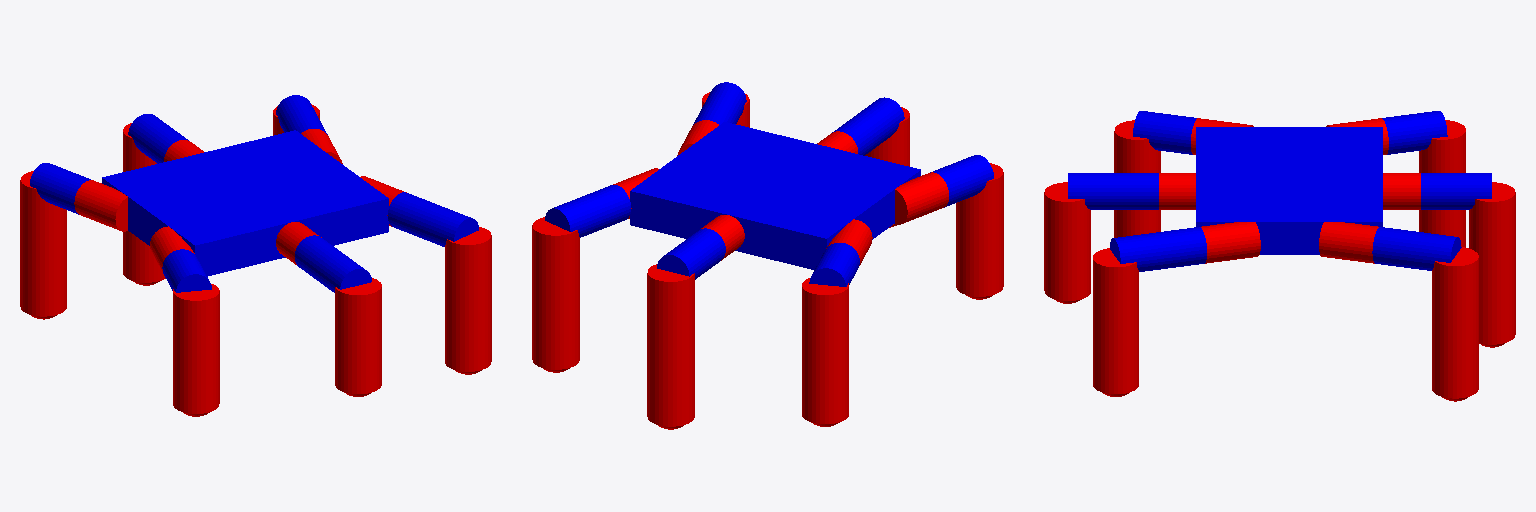
--- Facts derived from the render (not from the file) ---
Views: 3 orthographic renders of the robot side by side, from view 1: azimuth 30°, elevation 25°; view 2: azimuth 150°, elevation 25°; view 3: azimuth 270°, elevation 25°.
Robot: pexod — 19 links, 18 joints (18 revolute); root link base_link; default pose: every joint at zero.
Visible links, largest first — view 1: base_link, leg_3_3, leg_5_3, leg_0_3, leg_4_3, leg_3_2, leg_4_2, leg_1_3, leg_0_1, leg_0_2, leg_1_2, leg_5_2 (+3 smaller); view 2: base_link, leg_1_3, leg_2_3, leg_0_3, leg_5_3, leg_2_2, leg_4_2, leg_1_2, leg_5_1, leg_5_2, leg_0_2, leg_3_2 (+5 smaller); view 3: base_link, leg_2_3, leg_3_3, leg_1_3, leg_4_3, leg_3_2, leg_4_2, leg_0_3, leg_5_3, leg_2_2, leg_1_2, leg_0_2 (+5 smaller).
Link boxes in pixels (left/top/right/bottom): base_link: left=102, top=130, right=388, bottom=276; leg_3_3: left=445, top=227, right=491, bottom=374; leg_5_3: left=173, top=284, right=219, bottom=416; leg_0_3: left=20, top=171, right=66, bottom=319; leg_4_3: left=335, top=278, right=381, bottom=396; leg_3_2: left=388, top=192, right=478, bottom=246; leg_4_2: left=295, top=235, right=371, bottom=292; leg_1_3: left=123, top=123, right=165, bottom=285; leg_0_1: left=74, top=180, right=127, bottom=231; leg_0_2: left=30, top=163, right=90, bottom=214; leg_1_2: left=128, top=114, right=188, bottom=163; leg_5_2: left=162, top=249, right=211, bottom=292; base_link: left=630, top=122, right=920, bottom=269; leg_1_3: left=647, top=264, right=694, bottom=429; leg_2_3: left=532, top=217, right=579, bottom=372; leg_0_3: left=802, top=278, right=848, bottom=426; leg_5_3: left=956, top=163, right=1003, bottom=299; leg_2_2: left=545, top=185, right=630, bottom=237; leg_4_2: left=832, top=97, right=904, bottom=155; leg_1_2: left=657, top=228, right=725, bottom=279; leg_5_1: left=895, top=172, right=948, bottom=224; leg_5_2: left=930, top=155, right=993, bottom=207; leg_0_2: left=809, top=243, right=859, bottom=286; leg_3_2: left=693, top=82, right=746, bottom=124; base_link: left=1196, top=127, right=1382, bottom=254; leg_2_3: left=1432, top=247, right=1478, bottom=401; leg_3_3: left=1093, top=248, right=1138, bottom=396; leg_1_3: left=1469, top=182, right=1515, bottom=347; leg_4_3: left=1044, top=182, right=1090, bottom=303; leg_3_2: left=1110, top=227, right=1206, bottom=271; leg_4_2: left=1068, top=173, right=1158, bottom=209; leg_0_3: left=1419, top=120, right=1465, bottom=247; leg_5_3: left=1114, top=120, right=1160, bottom=237; leg_2_2: left=1372, top=227, right=1461, bottom=270; leg_1_2: left=1421, top=173, right=1491, bottom=209; leg_0_2: left=1382, top=111, right=1447, bottom=154.
Bounding box of the posed robot: 0.3733 × 0.5045 × 0.2012 m (x, y, z).
Geometry: primitives only (box / cylinder / sphere), no mesh files.

URDF robot description (pexod):
<?xml version="1.0" ?>
<!-- =================================================================================== -->
<!-- |    This document was autogenerated by xacro from pexod.xacro                    | -->
<!-- |    EDITING THIS FILE BY HAND IS NOT RECOMMENDED                                 | -->
<!-- =================================================================================== -->
<robot name="pexod" xmlns:xacro="http://www.ros.org/wiki/xacro">
  <!-- <xacro:include filename="$(find pexod_description)/urdf/pexod_control.xacro" /> -->
  <!-- MATERIALS -->
  <material name="Blue">
    <color rgba="0 0 1 1"/>
  </material>
  <material name="Red">
    <color rgba="1 0 0 1"/>
  </material>
  <material name="Green">
    <color rgba="0 1 0 1"/>
  </material>
  <material name="Yellow">
    <color rgba="1 1 0 1"/>
  </material>
  <material name="LightGrey">
    <color rgba="0.6 0.6 0.6 1.0"/>
  </material>
  <!-- END OF MATERIALS -->
  <!-- XACRO MACROS FOR VISUALS AND COLLISIONS -->
  <!-- END OF XACRO MACROS -->
  <!-- TORSO -->
  <link name="base_link">
    <visual>
      <origin rpy="0 0 0" xyz="0 0 0"/>
      <geometry>
        <box size="0.24 0.2 0.04"/>
      </geometry>
      <material name="Blue"/>
    </visual>
    <collision>
      <origin rpy="0 0 0" xyz="0 0 0"/>
      <geometry>
        <box size="0.24 0.2 0.04"/>
      </geometry>
    </collision>
    <inertial>
      <!-- CENTER OF MASS -->
      <origin rpy="0 0 0" xyz="0 0 0"/>
      <mass value="1.031"/>
      <!-- box inertia: 1/12*m(y^2+z^2), ... -->
      <inertia ixx="0.00357413333333" ixy="0" ixz="0" iyy="0.00508626666667" iyz="0" izz="0.00838546666667"/>
    </inertial>
  </link>
  <!-- XACRO MACRO FOR LEGS LINKS/JOINTS -->
  <!-- END OF LEG LINKS/JOINTS -->
  <joint name="body_leg_2" type="revolute">
    <parent link="base_link"/>
    <child link="leg_2_1"/>
    <limit effort="30.0" lower="-1.57079632679" upper="1.57079632679" velocity="7.0"/>
    <origin rpy="0 0 -0.3" xyz="0.11 0.04 0"/>
    <!-- <xacro:if value="${index == 5 or index == 4 or index == 3}">
                <axis xyz="0 0 1"/>
            </xacro:if>
            <xacro:if value="${index == 2 or index == 1 or index == 0}"> -->
    <axis xyz="0 0 1"/>
    <!-- </xacro:if> -->
    <dynamics damping="0.0"/>
  </joint>
  <link name="leg_2_1">
    <visual>
      <origin rpy="1.57079632679 0 0" xyz="0.01 0.03 0"/>
      <geometry>
        <cylinder length="0.06" radius="0.02"/>
      </geometry>
      <material name="Red"/>
    </visual>
    <collision>
      <origin rpy="1.57079632679 0 0" xyz="0.01 0.03 0"/>
      <geometry>
        <box size="0.02 0.02 0.06"/>
      </geometry>
    </collision>
    <inertial>
      <!-- CENTER OF MASS -->
      <origin rpy="1.57079632679 0 0" xyz="0.01 0.03 0"/>
      <mass value="0.02"/>
      <!-- box inertia: 1/12*m(y^2+z^2), ... -->
      <inertia ixx="6.66666666667e-06" ixy="0" ixz="0" iyy="6.66666666667e-06" iyz="0" izz="1.33333333333e-06"/>
    </inertial>
  </link>
  <joint name="leg_2_1_2" type="revolute">
    <parent link="leg_2_1"/>
    <child link="leg_2_2"/>
    <limit effort="30.0" lower="-0.78539816339" upper="0.78539816339" velocity="7.0"/>
    <origin rpy="0 0 0" xyz="0 0.06 0"/>
    <axis xyz="1 0 0"/>
    <dynamics damping="0.0"/>
  </joint>
  <link name="leg_2_2">
    <visual>
      <origin rpy="1.57079632679 0 0" xyz="0.01 0.0437390431417 0"/>
      <geometry>
        <cylinder length="0.0874780862834" radius="0.02"/>
      </geometry>
      <material name="Blue"/>
    </visual>
    <collision>
      <origin rpy="1.57079632679 0 0" xyz="0.01 0.0437390431417 0"/>
      <geometry>
        <box size="0.02 0.02 0.0874780862834"/>
      </geometry>
    </collision>
    <inertial>
      <!-- CENTER OF MASS -->
      <origin rpy="1.57079632679 0 0" xyz="0.01 0.0437390431417 0"/>
      <mass value="0.184"/>
      <!-- box inertia: 1/12*m(y^2+z^2), ... -->
      <inertia ixx="0.000123470372224" ixy="0" ixz="0" iyy="0.000123470372224" iyz="0" izz="1.22666666667e-05"/>
    </inertial>
  </link>
  <joint name="leg_2_2_3" type="revolute">
    <parent link="leg_2_2"/>
    <child link="leg_2_3"/>
    <limit effort="30.0" lower="-0.78539816339" upper="0.78539816339" velocity="7.0"/>
    <origin rpy="-1.57079632679 0 0" xyz="0 0.0874780862834 0"/>
    <axis xyz="-1 0 0"/>
    <dynamics damping="0.0"/>
  </joint>
  <link name="leg_2_3">
    <visual>
      <origin rpy="1.57079632679 0 0" xyz="0.0125 0.0781821200365 0"/>
      <geometry>
        <cylinder length="0.156364240073" radius="0.025"/>
      </geometry>
      <material name="Red"/>
    </visual>
    <visual>
      <origin rpy="1.57079632679 0 0" xyz="0.0125 0.143864240073 0"/>
      <geometry>
        <sphere radius="0.025"/>
      </geometry>
      <material name="Red"/>
    </visual>
    <collision>
      <origin rpy="1.57079632679 0 0" xyz="0.0125 0.0781821200365 0"/>
      <geometry>
        <box size="0.025 0.025 0.156364240073"/>
      </geometry>
    </collision>
    <collision>
      <origin rpy="1.57079632679 0 0" xyz="0.0125 0.143864240073 0"/>
      <geometry>
        <sphere radius="0.025"/>
      </geometry>
      <material name="Red"/>
    </collision>
    <inertial>
      <!-- CENTER OF MASS -->
      <origin rpy="1.57079632679 0 0" xyz="0.0125 0.0781821200365 0"/>
      <mass value="0.04"/>
      <!-- box inertia: 1/12*m(y^2+z^2), ... -->
      <inertia ixx="8.35825852454e-05" ixy="0" ixz="0" iyy="8.35825852454e-05" iyz="0" izz="4.16666666667e-06"/>
    </inertial>
  </link>
  <joint name="body_leg_3" type="revolute">
    <parent link="base_link"/>
    <child link="leg_3_1"/>
    <limit effort="30.0" lower="-1.57079632679" upper="1.57079632679" velocity="7.0"/>
    <origin rpy="0 0 0.3" xyz="0.11 -0.04 0"/>
    <!-- <xacro:if value="${index == 5 or index == 4 or index == 3}">
                <axis xyz="0 0 1"/>
            </xacro:if>
            <xacro:if value="${index == 2 or index == 1 or index == 0}"> -->
    <axis xyz="0 0 1"/>
    <!-- </xacro:if> -->
    <dynamics damping="0.0"/>
  </joint>
  <link name="leg_3_1">
    <visual>
      <origin rpy="1.57079632679 0 0" xyz="0.01 -0.03 0"/>
      <geometry>
        <cylinder length="0.06" radius="0.02"/>
      </geometry>
      <material name="Red"/>
    </visual>
    <collision>
      <origin rpy="1.57079632679 0 0" xyz="0.01 -0.03 0"/>
      <geometry>
        <box size="0.02 0.02 0.06"/>
      </geometry>
    </collision>
    <inertial>
      <!-- CENTER OF MASS -->
      <origin rpy="1.57079632679 0 0" xyz="0.01 -0.03 0"/>
      <mass value="0.02"/>
      <!-- box inertia: 1/12*m(y^2+z^2), ... -->
      <inertia ixx="6.66666666667e-06" ixy="0" ixz="0" iyy="6.66666666667e-06" iyz="0" izz="1.33333333333e-06"/>
    </inertial>
  </link>
  <joint name="leg_3_1_2" type="revolute">
    <parent link="leg_3_1"/>
    <child link="leg_3_2"/>
    <limit effort="30.0" lower="-0.78539816339" upper="0.78539816339" velocity="7.0"/>
    <origin rpy="0 0 0" xyz="0 -0.06 0"/>
    <axis xyz="-1 0 0"/>
    <dynamics damping="0.0"/>
  </joint>
  <link name="leg_3_2">
    <visual>
      <origin rpy="1.57079632679 0 0" xyz="0.01 -0.048441919747 0"/>
      <geometry>
        <cylinder length="0.0968838394939" radius="0.02"/>
      </geometry>
      <material name="Blue"/>
    </visual>
    <collision>
      <origin rpy="1.57079632679 0 0" xyz="0.01 -0.048441919747 0"/>
      <geometry>
        <box size="0.02 0.02 0.0968838394939"/>
      </geometry>
    </collision>
    <inertial>
      <!-- CENTER OF MASS -->
      <origin rpy="1.57079632679 0 0" xyz="0.01 -0.048441919747 0"/>
      <mass value="0.184"/>
      <!-- box inertia: 1/12*m(y^2+z^2), ... -->
      <inertia ixx="0.000150059334778" ixy="0" ixz="0" iyy="0.000150059334778" iyz="0" izz="1.22666666667e-05"/>
    </inertial>
  </link>
  <joint name="leg_3_2_3" type="revolute">
    <parent link="leg_3_2"/>
    <child link="leg_3_3"/>
    <limit effort="30.0" lower="-0.78539816339" upper="0.78539816339" velocity="7.0"/>
    <origin rpy="1.57079632679 0 0" xyz="0 -0.0968838394939 0"/>
    <axis xyz="1 0 0"/>
    <dynamics damping="0.0"/>
  </joint>
  <link name="leg_3_3">
    <visual>
      <origin rpy="1.57079632679 0 0" xyz="0.0125 -0.075016838251 0"/>
      <geometry>
        <cylinder length="0.150033676502" radius="0.025"/>
      </geometry>
      <material name="Red"/>
    </visual>
    <visual>
      <origin rpy="1.57079632679 0 0" xyz="0.0125 -0.137533676502 0"/>
      <geometry>
        <sphere radius="0.025"/>
      </geometry>
      <material name="Red"/>
    </visual>
    <collision>
      <origin rpy="1.57079632679 0 0" xyz="0.0125 -0.075016838251 0"/>
      <geometry>
        <box size="0.025 0.025 0.150033676502"/>
      </geometry>
    </collision>
    <collision>
      <origin rpy="1.57079632679 0 0" xyz="0.0125 -0.137533676502 0"/>
      <geometry>
        <sphere radius="0.025"/>
      </geometry>
      <material name="Red"/>
    </collision>
    <inertial>
      <!-- CENTER OF MASS -->
      <origin rpy="1.57079632679 0 0" xyz="0.0125 -0.075016838251 0"/>
      <mass value="0.04"/>
      <!-- box inertia: 1/12*m(y^2+z^2), ... -->
      <inertia ixx="7.71170136157e-05" ixy="0" ixz="0" iyy="7.71170136157e-05" iyz="0" izz="4.16666666667e-06"/>
    </inertial>
  </link>
  <joint name="body_leg_0" type="revolute">
    <parent link="base_link"/>
    <child link="leg_0_1"/>
    <limit effort="30.0" lower="-1.57079632679" upper="1.57079632679" velocity="7.0"/>
    <origin rpy="0 0 0.3" xyz="-0.13 0.04 0"/>
    <!-- <xacro:if value="${index == 5 or index == 4 or index == 3}">
                <axis xyz="0 0 1"/>
            </xacro:if>
            <xacro:if value="${index == 2 or index == 1 or index == 0}"> -->
    <axis xyz="0 0 1"/>
    <!-- </xacro:if> -->
    <dynamics damping="0.0"/>
  </joint>
  <link name="leg_0_1">
    <visual>
      <origin rpy="1.57079632679 0 0" xyz="0.01 0.03 0"/>
      <geometry>
        <cylinder length="0.06" radius="0.02"/>
      </geometry>
      <material name="Red"/>
    </visual>
    <collision>
      <origin rpy="1.57079632679 0 0" xyz="0.01 0.03 0"/>
      <geometry>
        <box size="0.02 0.02 0.06"/>
      </geometry>
    </collision>
    <inertial>
      <!-- CENTER OF MASS -->
      <origin rpy="1.57079632679 0 0" xyz="0.01 0.03 0"/>
      <mass value="0.02"/>
      <!-- box inertia: 1/12*m(y^2+z^2), ... -->
      <inertia ixx="6.66666666667e-06" ixy="0" ixz="0" iyy="6.66666666667e-06" iyz="0" izz="1.33333333333e-06"/>
    </inertial>
  </link>
  <joint name="leg_0_1_2" type="revolute">
    <parent link="leg_0_1"/>
    <child link="leg_0_2"/>
    <limit effort="30.0" lower="-0.78539816339" upper="0.78539816339" velocity="7.0"/>
    <origin rpy="0 0 0" xyz="0 0.06 0"/>
    <axis xyz="1 0 0"/>
    <dynamics damping="0.0"/>
  </joint>
  <link name="leg_0_2">
    <visual>
      <origin rpy="1.57079632679 0 0" xyz="0.01 0.0328096335835 0"/>
      <geometry>
        <cylinder length="0.0656192671671" radius="0.02"/>
      </geometry>
      <material name="Blue"/>
    </visual>
    <collision>
      <origin rpy="1.57079632679 0 0" xyz="0.01 0.0328096335835 0"/>
      <geometry>
        <box size="0.02 0.02 0.0656192671671"/>
      </geometry>
    </collision>
    <inertial>
      <!-- CENTER OF MASS -->
      <origin rpy="1.57079632679 0 0" xyz="0.01 0.0328096335835 0"/>
      <mass value="0.184"/>
      <!-- box inertia: 1/12*m(y^2+z^2), ... -->
      <inertia ixx="7.21569527611e-05" ixy="0" ixz="0" iyy="7.21569527611e-05" iyz="0" izz="1.22666666667e-05"/>
    </inertial>
  </link>
  <joint name="leg_0_2_3" type="revolute">
    <parent link="leg_0_2"/>
    <child link="leg_0_3"/>
    <limit effort="30.0" lower="-0.78539816339" upper="0.78539816339" velocity="7.0"/>
    <origin rpy="-1.57079632679 0 0" xyz="0 0.0656192671671 0"/>
    <axis xyz="-1 0 0"/>
    <dynamics damping="0.0"/>
  </joint>
  <link name="leg_0_3">
    <visual>
      <origin rpy="1.57079632679 0 0" xyz="0.0125 0.075252878655 0"/>
      <geometry>
        <cylinder length="0.15050575731" radius="0.025"/>
      </geometry>
      <material name="Red"/>
    </visual>
    <visual>
      <origin rpy="1.57079632679 0 0" xyz="0.0125 0.13800575731 0"/>
      <geometry>
        <sphere radius="0.025"/>
      </geometry>
      <material name="Red"/>
    </visual>
    <collision>
      <origin rpy="1.57079632679 0 0" xyz="0.0125 0.075252878655 0"/>
      <geometry>
        <box size="0.025 0.025 0.15050575731"/>
      </geometry>
    </collision>
    <collision>
      <origin rpy="1.57079632679 0 0" xyz="0.0125 0.13800575731 0"/>
      <geometry>
        <sphere radius="0.025"/>
      </geometry>
      <material name="Red"/>
    </collision>
    <inertial>
      <!-- CENTER OF MASS -->
      <origin rpy="1.57079632679 0 0" xyz="0.0125 0.075252878655 0"/>
      <mass value="0.04"/>
      <!-- box inertia: 1/12*m(y^2+z^2), ... -->
      <inertia ixx="7.75899432782e-05" ixy="0" ixz="0" iyy="7.75899432782e-05" iyz="0" izz="4.16666666667e-06"/>
    </inertial>
  </link>
  <joint name="body_leg_5" type="revolute">
    <parent link="base_link"/>
    <child link="leg_5_1"/>
    <limit effort="30.0" lower="-1.57079632679" upper="1.57079632679" velocity="7.0"/>
    <origin rpy="0 0 -0.3" xyz="-0.13 -0.04 0"/>
    <!-- <xacro:if value="${index == 5 or index == 4 or index == 3}">
                <axis xyz="0 0 1"/>
            </xacro:if>
            <xacro:if value="${index == 2 or index == 1 or index == 0}"> -->
    <axis xyz="0 0 1"/>
    <!-- </xacro:if> -->
    <dynamics damping="0.0"/>
  </joint>
  <link name="leg_5_1">
    <visual>
      <origin rpy="1.57079632679 0 0" xyz="0.01 -0.03 0"/>
      <geometry>
        <cylinder length="0.06" radius="0.02"/>
      </geometry>
      <material name="Red"/>
    </visual>
    <collision>
      <origin rpy="1.57079632679 0 0" xyz="0.01 -0.03 0"/>
      <geometry>
        <box size="0.02 0.02 0.06"/>
      </geometry>
    </collision>
    <inertial>
      <!-- CENTER OF MASS -->
      <origin rpy="1.57079632679 0 0" xyz="0.01 -0.03 0"/>
      <mass value="0.02"/>
      <!-- box inertia: 1/12*m(y^2+z^2), ... -->
      <inertia ixx="6.66666666667e-06" ixy="0" ixz="0" iyy="6.66666666667e-06" iyz="0" izz="1.33333333333e-06"/>
    </inertial>
  </link>
  <joint name="leg_5_1_2" type="revolute">
    <parent link="leg_5_1"/>
    <child link="leg_5_2"/>
    <limit effort="30.0" lower="-0.78539816339" upper="0.78539816339" velocity="7.0"/>
    <origin rpy="0 0 0" xyz="0 -0.06 0"/>
    <axis xyz="-1 0 0"/>
    <dynamics damping="0.0"/>
  </joint>
  <link name="leg_5_2">
    <visual>
      <origin rpy="1.57079632679 0 0" xyz="0.01 -0.0323964603897 0"/>
      <geometry>
        <cylinder length="0.0647929207795" radius="0.02"/>
      </geometry>
      <material name="Blue"/>
    </visual>
    <collision>
      <origin rpy="1.57079632679 0 0" xyz="0.01 -0.0323964603897 0"/>
      <geometry>
        <box size="0.02 0.02 0.0647929207795"/>
      </geometry>
    </collision>
    <inertial>
      <!-- CENTER OF MASS -->
      <origin rpy="1.57079632679 0 0" xyz="0.01 -0.0323964603897 0"/>
      <mass value="0.184"/>
      <!-- box inertia: 1/12*m(y^2+z^2), ... -->
      <inertia ixx="7.05045462748e-05" ixy="0" ixz="0" iyy="7.05045462748e-05" iyz="0" izz="1.22666666667e-05"/>
    </inertial>
  </link>
  <joint name="leg_5_2_3" type="revolute">
    <parent link="leg_5_2"/>
    <child link="leg_5_3"/>
    <limit effort="30.0" lower="-0.78539816339" upper="0.78539816339" velocity="7.0"/>
    <origin rpy="1.57079632679 0 0" xyz="0 -0.0647929207795 0"/>
    <axis xyz="1 0 0"/>
    <dynamics damping="0.0"/>
  </joint>
  <link name="leg_5_3">
    <visual>
      <origin rpy="1.57079632679 0 0" xyz="0.0125 -0.0669455393525 0"/>
      <geometry>
        <cylinder length="0.133891078705" radius="0.025"/>
      </geometry>
      <material name="Red"/>
    </visual>
    <visual>
      <origin rpy="1.57079632679 0 0" xyz="0.0125 -0.121391078705 0"/>
      <geometry>
        <sphere radius="0.025"/>
      </geometry>
      <material name="Red"/>
    </visual>
    <collision>
      <origin rpy="1.57079632679 0 0" xyz="0.0125 -0.0669455393525 0"/>
      <geometry>
        <box size="0.025 0.025 0.133891078705"/>
      </geometry>
    </collision>
    <collision>
      <origin rpy="1.57079632679 0 0" xyz="0.0125 -0.121391078705 0"/>
      <geometry>
        <sphere radius="0.025"/>
      </geometry>
      <material name="Red"/>
    </collision>
    <inertial>
      <!-- CENTER OF MASS -->
      <origin rpy="1.57079632679 0 0" xyz="0.0125 -0.0669455393525 0"/>
      <mass value="0.04"/>
      <!-- box inertia: 1/12*m(y^2+z^2), ... -->
      <inertia ixx="6.18394031893e-05" ixy="0" ixz="0" iyy="6.18394031893e-05" iyz="0" izz="4.16666666667e-06"/>
    </inertial>
  </link>
  <joint name="body_leg_1" type="revolute">
    <parent link="base_link"/>
    <child link="leg_1_1"/>
    <limit effort="30.0" lower="-1.57079632679" upper="1.57079632679" velocity="7.0"/>
    <origin rpy="0 0 0" xyz="-0.01 0.08 0"/>
    <!-- <xacro:if value="${index == 5 or index == 4 or index == 3}">
                <axis xyz="0 0 1"/>
            </xacro:if>
            <xacro:if value="${index == 2 or index == 1 or index == 0}"> -->
    <axis xyz="0 0 1"/>
    <!-- </xacro:if> -->
    <dynamics damping="0.0"/>
  </joint>
  <link name="leg_1_1">
    <visual>
      <origin rpy="1.57079632679 0 0" xyz="0.01 0.03 0"/>
      <geometry>
        <cylinder length="0.06" radius="0.02"/>
      </geometry>
      <material name="Red"/>
    </visual>
    <collision>
      <origin rpy="1.57079632679 0 0" xyz="0.01 0.03 0"/>
      <geometry>
        <box size="0.02 0.02 0.06"/>
      </geometry>
    </collision>
    <inertial>
      <!-- CENTER OF MASS -->
      <origin rpy="1.57079632679 0 0" xyz="0.01 0.03 0"/>
      <mass value="0.02"/>
      <!-- box inertia: 1/12*m(y^2+z^2), ... -->
      <inertia ixx="6.66666666667e-06" ixy="0" ixz="0" iyy="6.66666666667e-06" iyz="0" izz="1.33333333333e-06"/>
    </inertial>
  </link>
  <joint name="leg_1_1_2" type="revolute">
    <parent link="leg_1_1"/>
    <child link="leg_1_2"/>
    <limit effort="30.0" lower="-0.78539816339" upper="0.78539816339" velocity="7.0"/>
    <origin rpy="0 0 0" xyz="0 0.06 0"/>
    <axis xyz="1 0 0"/>
    <dynamics damping="0.0"/>
  </joint>
  <link name="leg_1_2">
    <visual>
      <origin rpy="1.57079632679 0 0" xyz="0.01 0.0383383225283 0"/>
      <geometry>
        <cylinder length="0.0766766450566" radius="0.02"/>
      </geometry>
      <material name="Blue"/>
    </visual>
    <collision>
      <origin rpy="1.57079632679 0 0" xyz="0.01 0.0383383225283 0"/>
      <geometry>
        <box size="0.02 0.02 0.0766766450566"/>
      </geometry>
    </collision>
    <inertial>
      <!-- CENTER OF MASS -->
      <origin rpy="1.57079632679 0 0" xyz="0.01 0.0383383225283 0"/>
      <mass value="0.184"/>
      <!-- box inertia: 1/12*m(y^2+z^2), ... -->
      <inertia ixx="9.62827210894e-05" ixy="0" ixz="0" iyy="9.62827210894e-05" iyz="0" izz="1.22666666667e-05"/>
    </inertial>
  </link>
  <joint name="leg_1_2_3" type="revolute">
    <parent link="leg_1_2"/>
    <child link="leg_1_3"/>
    <limit effort="30.0" lower="-0.78539816339" upper="0.78539816339" velocity="7.0"/>
    <origin rpy="-1.57079632679 0 0" xyz="0 0.0766766450566 0"/>
    <axis xyz="-1 0 0"/>
    <dynamics damping="0.0"/>
  </joint>
  <link name="leg_1_3">
    <visual>
      <origin rpy="1.57079632679 0 0" xyz="0.0125 0.084351654314 0"/>
      <geometry>
        <cylinder length="0.168703308628" radius="0.025"/>
      </geometry>
      <material name="Red"/>
    </visual>
    <visual>
      <origin rpy="1.57079632679 0 0" xyz="0.0125 0.156203308628 0"/>
      <geometry>
        <sphere radius="0.025"/>
      </geometry>
      <material name="Red"/>
    </visual>
    <collision>
      <origin rpy="1.57079632679 0 0" xyz="0.0125 0.084351654314 0"/>
      <geometry>
        <box size="0.025 0.025 0.168703308628"/>
      </geometry>
    </collision>
    <collision>
      <origin rpy="1.57079632679 0 0" xyz="0.0125 0.156203308628 0"/>
      <geometry>
        <sphere radius="0.025"/>
      </geometry>
      <material name="Red"/>
    </collision>
    <inertial>
      <!-- CENTER OF MASS -->
      <origin rpy="1.57079632679 0 0" xyz="0.0125 0.084351654314 0"/>
      <mass value="0.04"/>
      <!-- box inertia: 1/12*m(y^2+z^2), ... -->
      <inertia ixx="9.69526878068e-05" ixy="0" ixz="0" iyy="9.69526878068e-05" iyz="0" izz="4.16666666667e-06"/>
    </inertial>
  </link>
  <joint name="body_leg_4" type="revolute">
    <parent link="base_link"/>
    <child link="leg_4_1"/>
    <limit effort="30.0" lower="-1.57079632679" upper="1.57079632679" velocity="7.0"/>
    <origin rpy="0 0 0" xyz="-0.01 -0.08 0"/>
    <!-- <xacro:if value="${index == 5 or index == 4 or index == 3}">
                <axis xyz="0 0 1"/>
            </xacro:if>
            <xacro:if value="${index == 2 or index == 1 or index == 0}"> -->
    <axis xyz="0 0 1"/>
    <!-- </xacro:if> -->
    <dynamics damping="0.0"/>
  </joint>
  <link name="leg_4_1">
    <visual>
      <origin rpy="1.57079632679 0 0" xyz="0.01 -0.03 0"/>
      <geometry>
        <cylinder length="0.06" radius="0.02"/>
      </geometry>
      <material name="Red"/>
    </visual>
    <collision>
      <origin rpy="1.57079632679 0 0" xyz="0.01 -0.03 0"/>
      <geometry>
        <box size="0.02 0.02 0.06"/>
      </geometry>
    </collision>
    <inertial>
      <!-- CENTER OF MASS -->
      <origin rpy="1.57079632679 0 0" xyz="0.01 -0.03 0"/>
      <mass value="0.02"/>
      <!-- box inertia: 1/12*m(y^2+z^2), ... -->
      <inertia ixx="6.66666666667e-06" ixy="0" ixz="0" iyy="6.66666666667e-06" iyz="0" izz="1.33333333333e-06"/>
    </inertial>
  </link>
  <joint name="leg_4_1_2" type="revolute">
    <parent link="leg_4_1"/>
    <child link="leg_4_2"/>
    <limit effort="30.0" lower="-0.78539816339" upper="0.78539816339" velocity="7.0"/>
    <origin rpy="0 0 0" xyz="0 -0.06 0"/>
    <axis xyz="-1 0 0"/>
    <dynamics damping="0.0"/>
  </joint>
  <link name="leg_4_2">
    <visual>
      <origin rpy="1.57079632679 0 0" xyz="0.01 -0.048895769427 0"/>
      <geometry>
        <cylinder length="0.0977915388541" radius="0.02"/>
      </geometry>
      <material name="Blue"/>
    </visual>
    <collision>
      <origin rpy="1.57079632679 0 0" xyz="0.01 -0.048895769427 0"/>
      <geometry>
        <box size="0.02 0.02 0.0977915388541"/>
      </geometry>
    </collision>
    <inertial>
      <!-- CENTER OF MASS -->
      <origin rpy="1.57079632679 0 0" xyz="0.01 -0.048895769427 0"/>
      <mass value="0.184"/>
      <!-- box inertia: 1/12*m(y^2+z^2), ... -->
      <inertia ixx="0.000152768837762" ixy="0" ixz="0" iyy="0.000152768837762" iyz="0" izz="1.22666666667e-05"/>
    </inertial>
  </link>
  <joint name="leg_4_2_3" type="revolute">
    <parent link="leg_4_2"/>
    <child link="leg_4_3"/>
    <limit effort="30.0" lower="-0.78539816339" upper="0.78539816339" velocity="7.0"/>
    <origin rpy="1.57079632679 0 0" xyz="0 -0.0977915388541 0"/>
    <axis xyz="1 0 0"/>
    <dynamics damping="0.0"/>
  </joint>
  <link name="leg_4_3">
    <visual>
      <origin rpy="1.57079632679 0 0" xyz="0.0125 -0.058581716506 0"/>
      <geometry>
        <cylinder length="0.117163433012" radius="0.025"/>
      </geometry>
      <material name="Red"/>
    </visual>
    <visual>
      <origin rpy="1.57079632679 0 0" xyz="0.0125 -0.104663433012 0"/>
      <geometry>
        <sphere radius="0.025"/>
      </geometry>
      <material name="Red"/>
    </visual>
    <collision>
      <origin rpy="1.57079632679 0 0" xyz="0.0125 -0.058581716506 0"/>
      <geometry>
        <box size="0.025 0.025 0.117163433012"/>
      </geometry>
    </collision>
    <collision>
      <origin rpy="1.57079632679 0 0" xyz="0.0125 -0.104663433012 0"/>
      <geometry>
        <sphere radius="0.025"/>
      </geometry>
      <material name="Red"/>
    </collision>
    <inertial>
      <!-- CENTER OF MASS -->
      <origin rpy="1.57079632679 0 0" xyz="0.0125 -0.058581716506 0"/>
      <mass value="0.04"/>
      <!-- box inertia: 1/12*m(y^2+z^2), ... -->
      <inertia ixx="4.78409001172e-05" ixy="0" ixz="0" iyy="4.78409001172e-05" iyz="0" izz="4.16666666667e-06"/>
    </inertial>
  </link>
  <!-- END OF LEG LINKS/JOINTS -->
</robot>
